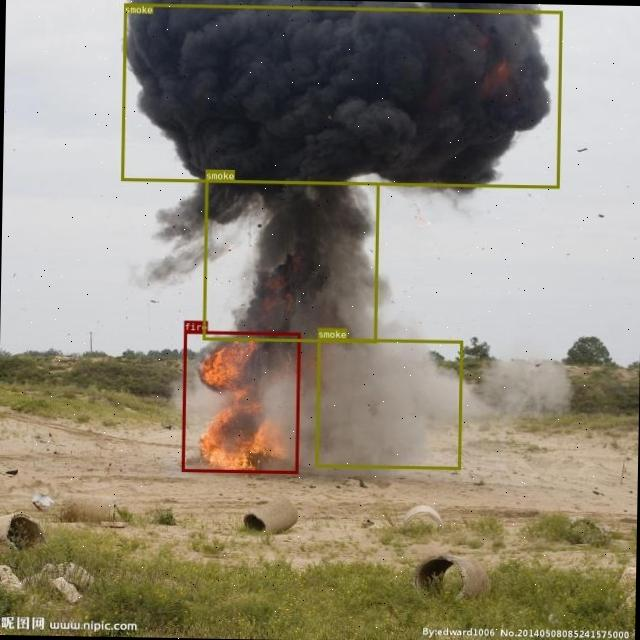fire: (182, 330, 300, 472)
smoke: (120, 2, 562, 188), (202, 179, 378, 342), (314, 336, 462, 468)
